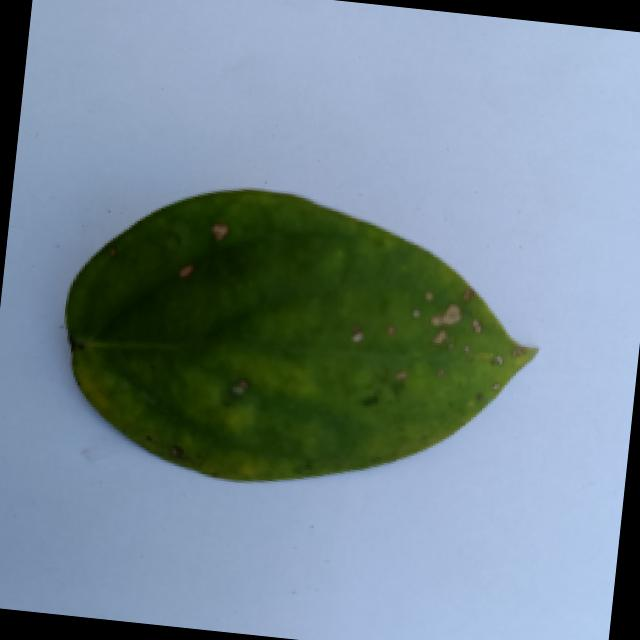slow-decline: (36, 152, 561, 516)
